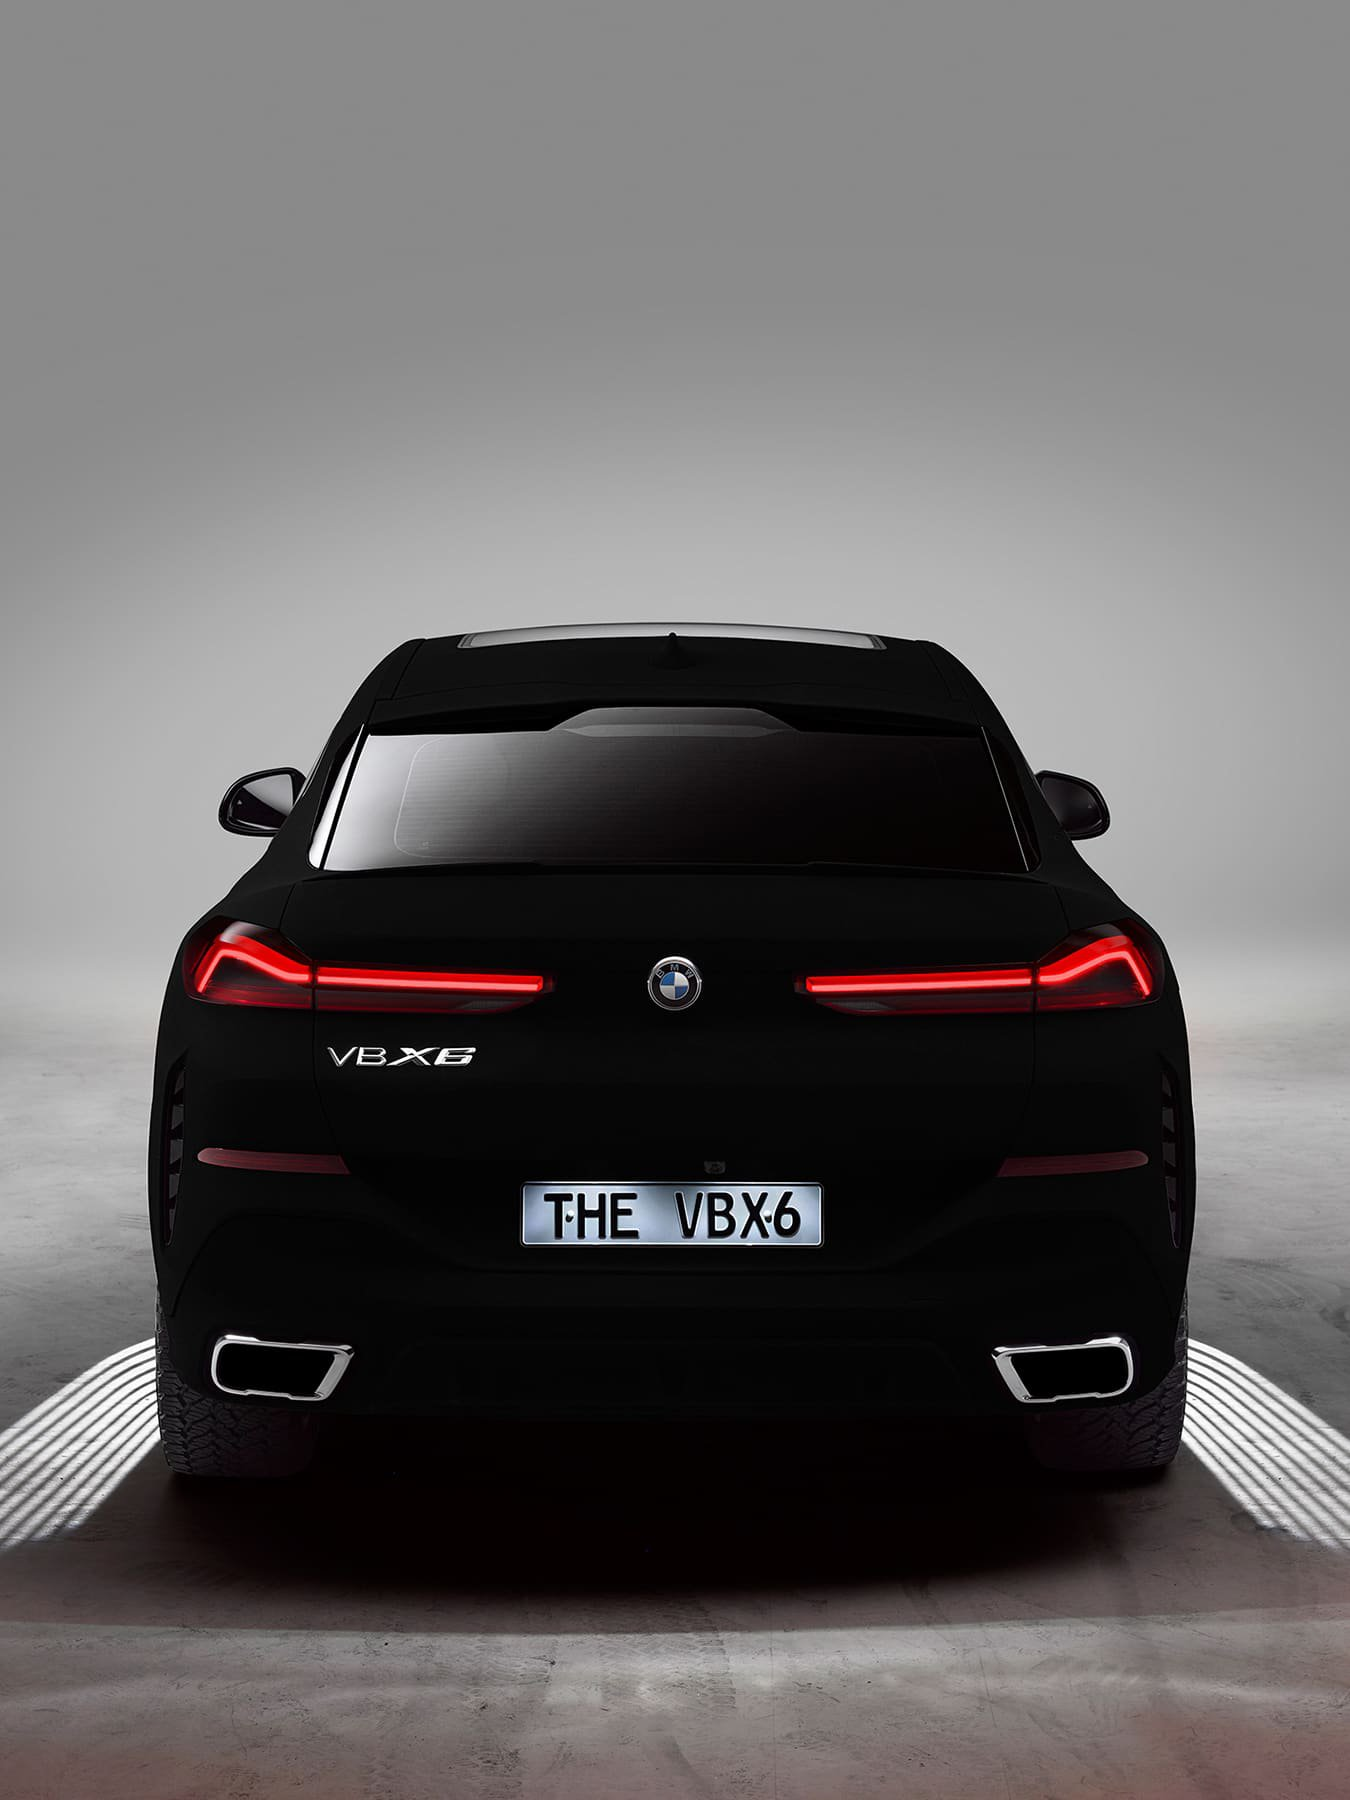car: (150, 597, 1193, 1477)
